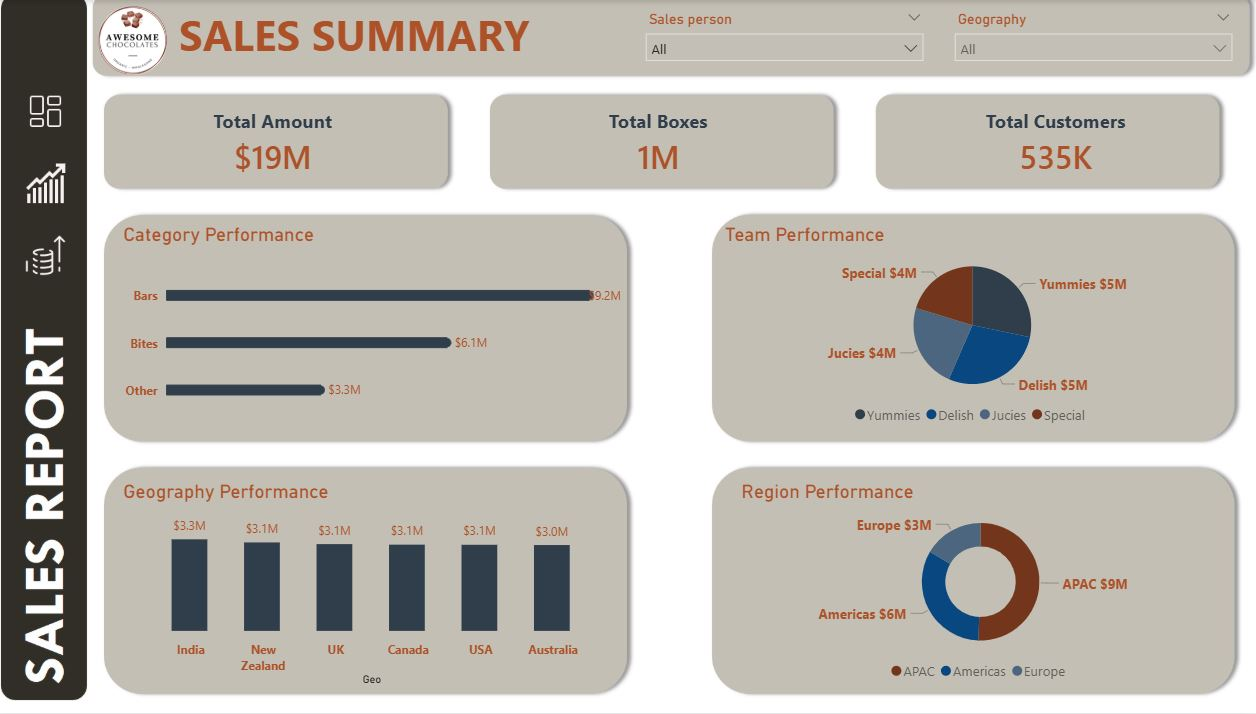

The page's visual inventory and layout, read from the dashboard file:
{"tool":"powerbi","page":{"name":"Sales Summary","canvas":[1280,720],"ordinal":0},"visuals":[{"type":"cardVisual","fields":{"Data":["sales.Total Amount"]},"box":[143.8,92.4,281.6,104.5],"z":0},{"type":"cardVisual","fields":{"Data":["sales.Total Boxes"]},"box":[533,92.4,281.6,104.5],"z":1000},{"type":"cardVisual","fields":{"Data":["sales.Total Customers"]},"box":[934.3,92.4,281.6,104.5],"z":2000},{"type":"clusteredBarChart","title":" Category Performance","fields":{"Category":["products.Category"],"Y":["sales.Total Amount"]},"box":[128.7,225.6,511.8,212],"z":3000},{"type":"donutChart","title":"Region Performance","fields":{"Category":["locations.Region"],"Y":["sales.Total Amount"]},"box":[752.6,484.5,492.1,212],"z":4000},{"type":"pieChart","title":"Team Performance","fields":{"Category":["people.Team"],"Y":["sales.Total Amount"]},"box":[735.9,225.6,508.8,212],"z":5000},{"type":"clusteredColumnChart","title":"Geography Performance","fields":{"Category":["locations.Geo"],"Y":["sales.Total Amount"]},"box":[128.7,484.5,492.1,212],"z":6000},{"type":"textbox","box":[184.7,0,455.8,75.7],"z":7000},{"type":"image","box":[62.1,6.1,162,69.7],"z":8000},{"type":"slicer","fields":{"Values":["sales.Geography"]},"box":[963,6.1,299.8,60.6],"z":9000},{"type":"slicer","fields":{"Values":["people.Sales person"]},"box":[651.1,6.1,299.8,69.7],"z":10000},{"type":"image","box":[19.7,92.4,70,40],"z":10001},{"type":"image","box":[19.7,165,70,40],"z":10002},{"type":"image","box":[19.7,237.7,70,40],"z":10003}]}

Visuals, with their boxes on the page's 1280x720 design canvas (x1, y1, x2, y2). These are canvas units, not pixel positions in the 1256x714 screenshot, which may show the page scaled, cropped or inside an application window:
cardVisual - sales.Total Amount: (144, 92, 425, 197)
cardVisual - sales.Total Boxes: (533, 92, 815, 197)
cardVisual - sales.Total Customers: (934, 92, 1216, 197)
" Category Performance" clusteredBarChart: (129, 226, 640, 438)
"Region Performance" donutChart: (753, 484, 1245, 696)
"Team Performance" pieChart: (736, 226, 1245, 438)
"Geography Performance" clusteredColumnChart: (129, 484, 621, 696)
textbox: (185, 0, 640, 76)
image: (62, 6, 224, 76)
slicer - sales.Geography: (963, 6, 1263, 67)
slicer - people.Sales person: (651, 6, 951, 76)
image: (20, 92, 90, 132)
image: (20, 165, 90, 205)
image: (20, 238, 90, 278)
